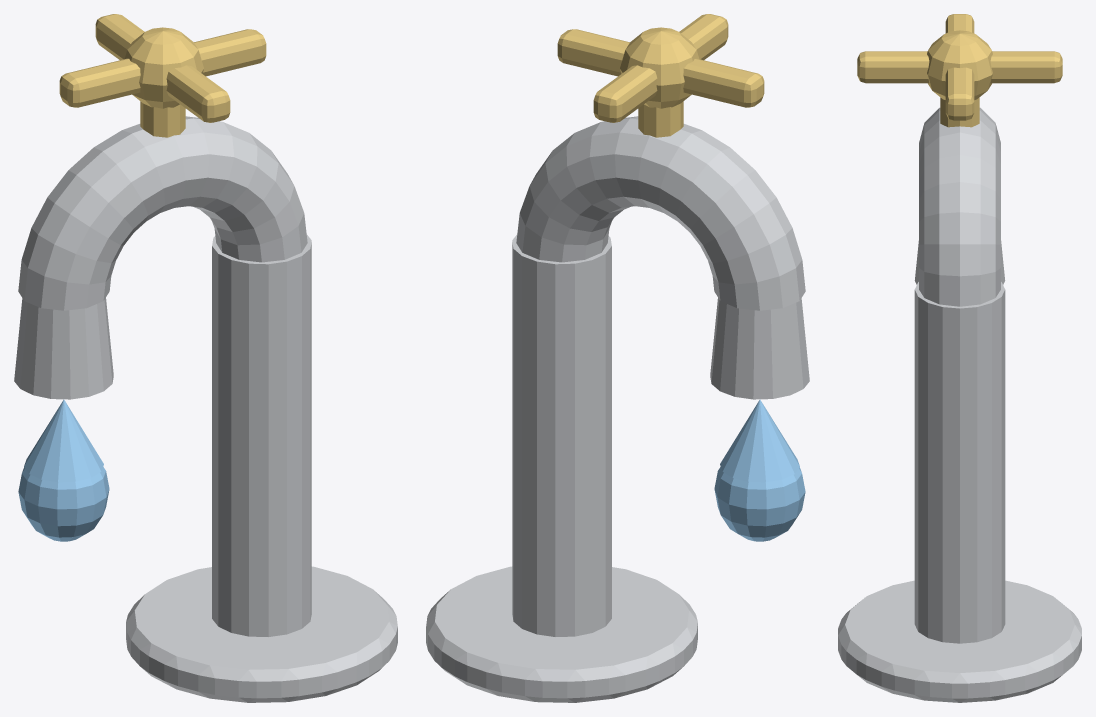
File: Tap.fbx
3 renders of one model, left to right at view 1: azimuth 30°, elevation 25°; view 2: azimuth 150°, elevation 25°; view 3: azimuth 270°, elevation 25°, orthographic. The views are drawn at different scales.
Visible parts, largest first — view 1: Body.004, Trim.003, Drop; view 2: Body.004, Trim.003, Drop; view 3: Body.004, Trim.003.
Boxes of the visible parts, x1,y1,x2,y2 form: Body.004: (14,116,397,702); Trim.003: (59,14,266,137); Drop: (18,399,109,541); Body.004: (426,116,809,702); Trim.003: (557,14,764,137); Drop: (714,399,805,541); Body.004: (838,107,1081,702); Trim.003: (857,14,1062,127).
Size of the model in its own units: 0.9069 by 1.55 by 0.5937.
